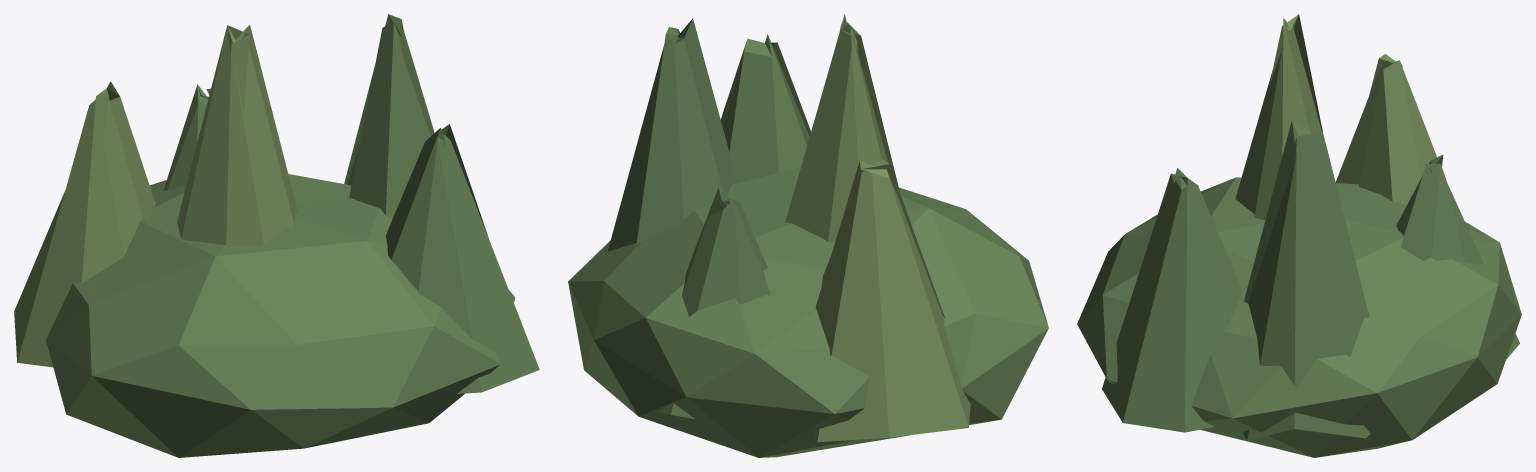
Rendered from SM_Bush_C.fbx.
3 renders of one model, left to right at view 1: azimuth 30°, elevation 25°; view 2: azimuth 150°, elevation 25°; view 3: azimuth 270°, elevation 25°, orthographic. The views are drawn at different scales.
Parts seen in each view (by area): view 1: SM_Bush_C; view 2: SM_Bush_C; view 3: SM_Bush_C.
Boxes of the visible parts, x1,y1,x2,y2 form: SM_Bush_C: (14, 14, 539, 457); SM_Bush_C: (568, 14, 1048, 457); SM_Bush_C: (1077, 14, 1521, 457).
Size of the model in its own units: 1.78 by 1.63 by 1.74.
